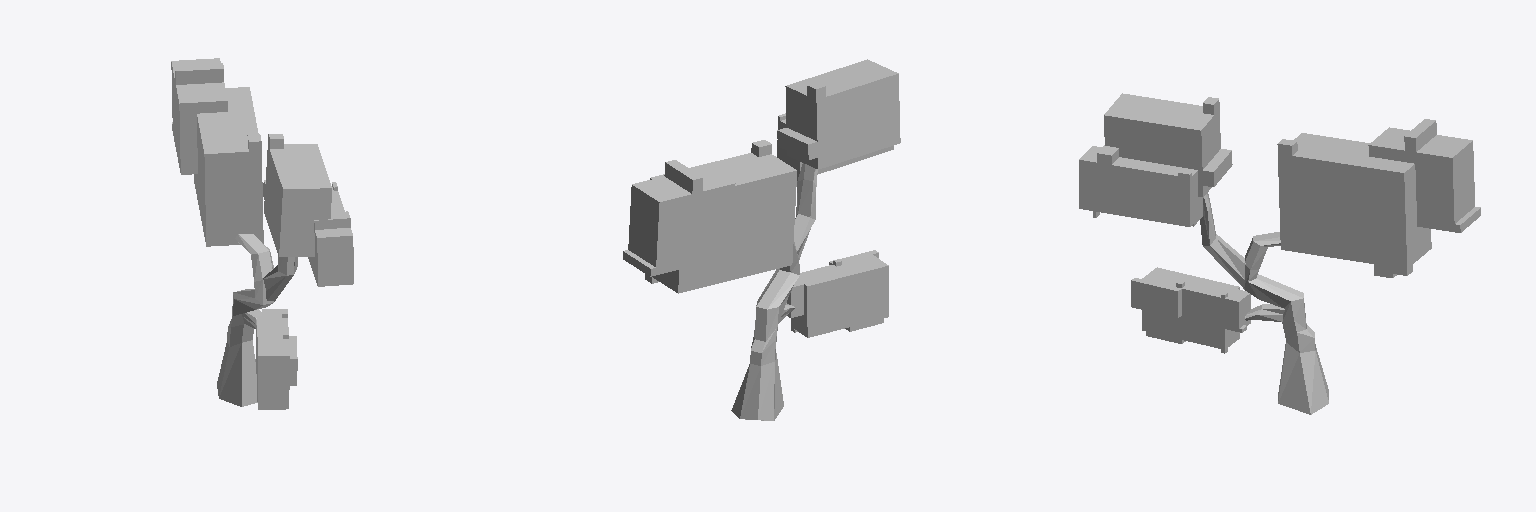
File: Sakura 4.obj
The picture shows the model from 3 angles: view 1: azimuth 30°, elevation 25°; view 2: azimuth 150°, elevation 25°; view 3: azimuth 270°, elevation 25°; orthographic projection.
Visible parts, largest first — view 1: Sakura 4; view 2: Sakura 4; view 3: Sakura 4.
Part boxes in pixels (x1,y1,x2,y2): Sakura 4: (171,58,353,409); Sakura 4: (623,59,900,420); Sakura 4: (1079,93,1480,414).
Bounding box in the file's own units: 1.41 × 3.36 × 4.13.